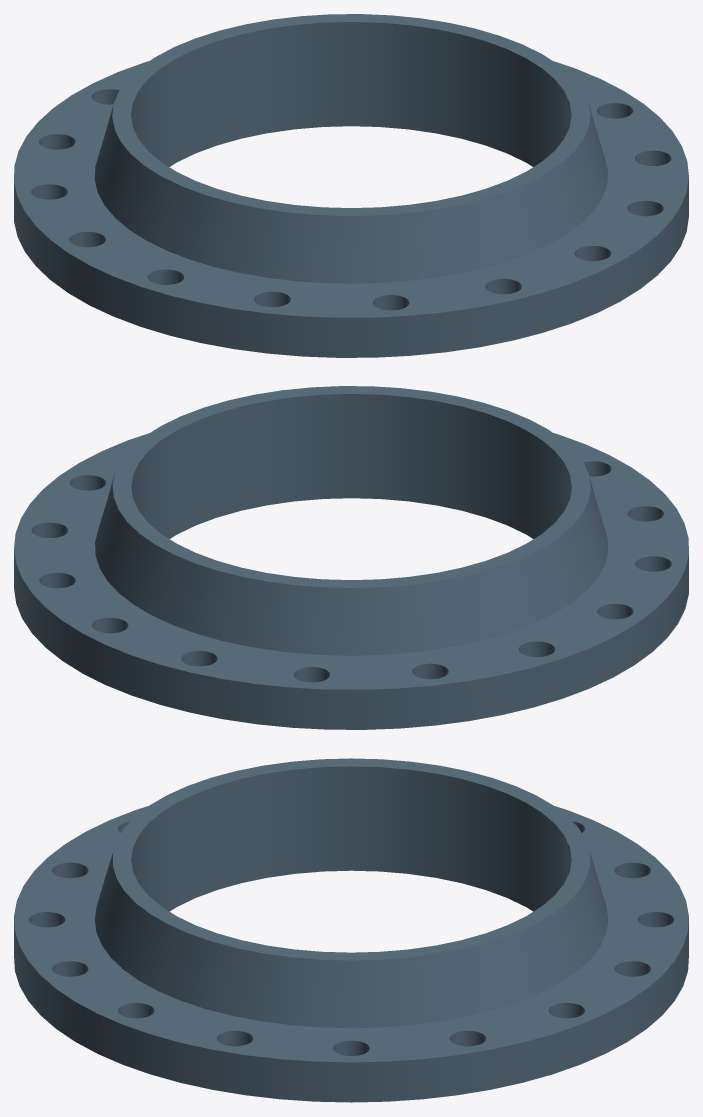
The model's file is flanec-vorotnikovyj-DN400-PN25.glb.
3 views of the same model, one above another, from view 1: azimuth 30°, elevation 25°; view 2: azimuth 150°, elevation 25°; view 3: azimuth 270°, elevation 25° (orthographic).
Visible parts, largest first — view 1: Open CASCADE STEP translator 7.9 101; view 2: Open CASCADE STEP translator 7.9 101; view 3: Open CASCADE STEP translator 7.9 101.
Boxes of the visible parts, box(x1,y1,x2,y2) form: Open CASCADE STEP translator 7.9 101: box(14, 14, 688, 357); Open CASCADE STEP translator 7.9 101: box(14, 386, 688, 729); Open CASCADE STEP translator 7.9 101: box(14, 758, 688, 1102).
Bounding box in the file's own units: 610 × 104 × 610.
